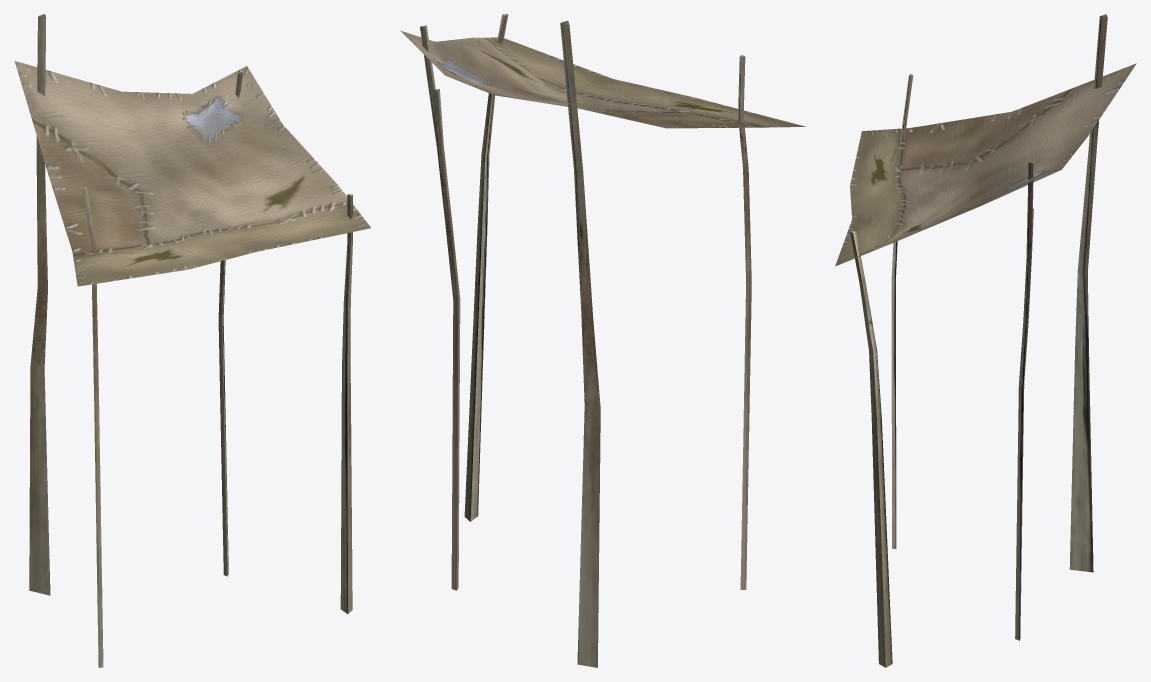
The model's file is pir_m_prp_tnt_single.fbx.
3 renders of one model, left to right at view 1: azimuth 30°, elevation 25°; view 2: azimuth 150°, elevation 25°; view 3: azimuth 270°, elevation 25°, orthographic. The views are drawn at different scales.
Visible parts, largest first — view 1: canopies, post23, post13, post7, post24; view 2: canopies, post23, post13, post24, post7; view 3: canopies, post23, post13, post24, post7.
Boxes of the visible parts, <box> form: canopies: <box>14,61,370,286</box>; post23: <box>29,14,50,595</box>; post13: <box>340,194,352,613</box>; post7: <box>82,187,103,667</box>; post24: <box>218,72,242,576</box>; canopies: <box>400,30,806,128</box>; post23: <box>560,20,600,667</box>; post13: <box>464,14,508,521</box>; post24: <box>420,25,460,590</box>; post7: <box>738,54,751,589</box>; canopies: <box>835,63,1136,266</box>; post23: <box>1069,14,1107,572</box>; post13: <box>850,231,892,667</box>; post24: <box>1015,162,1033,640</box>; post7: <box>891,73,913,548</box>.
Size of the model in its own units: 1207 by 2268 by 1111.
2 materials, 2 textured.
